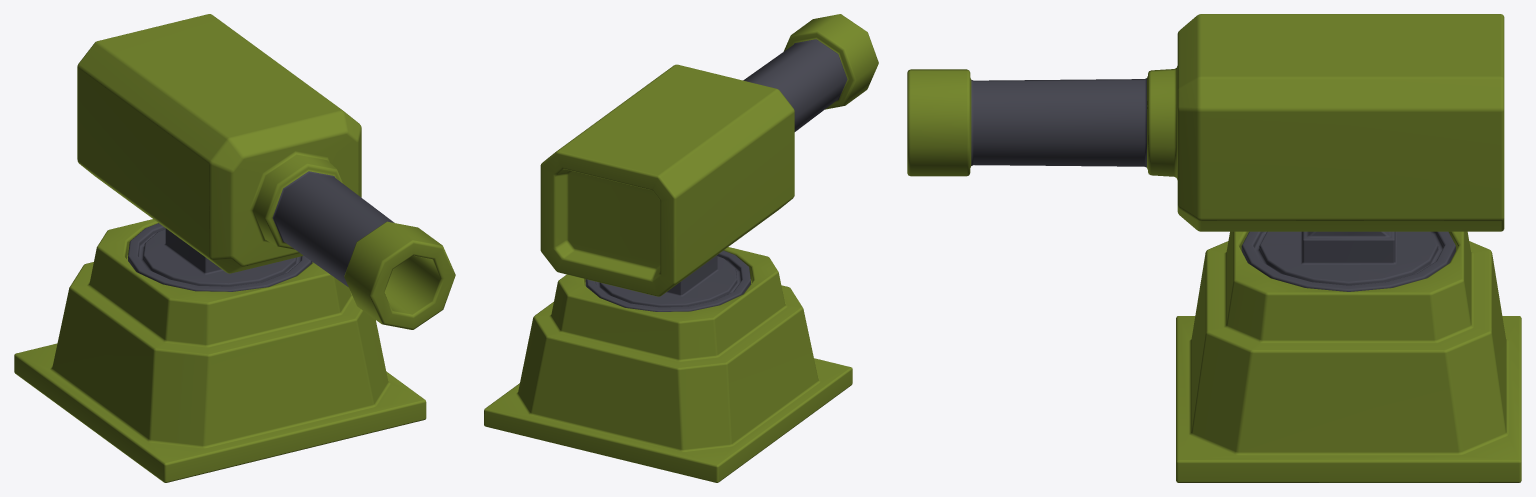
Rendered from toye_cannon_v01.fbx.
3 views of the same model, side by side, from view 1: azimuth 30°, elevation 25°; view 2: azimuth 150°, elevation 25°; view 3: azimuth 270°, elevation 25° (orthographic). The views are drawn at different scales.
Visible parts, largest first — view 1: cannon, cannon_base, cannon_hinge; view 2: cannon, cannon_base, cannon_hinge; view 3: cannon, cannon_base, cannon_hinge.
Part boxes in pixels (x1=…): cannon: x1=77, y1=14, x2=455, y2=329; cannon_base: x1=14, y1=219, x2=426, y2=482; cannon_hinge: x1=128, y1=223, x2=312, y2=291; cannon: x1=540, y1=14, x2=878, y2=296; cannon_base: x1=484, y1=247, x2=852, y2=482; cannon_hinge: x1=585, y1=250, x2=750, y2=311; cannon: x1=907, y1=14, x2=1504, y2=231; cannon_base: x1=1176, y1=231, x2=1521, y2=482; cannon_hinge: x1=1241, y1=231, x2=1455, y2=291.
Size of the model in its own units: 62.04 by 72.37 by 110.
